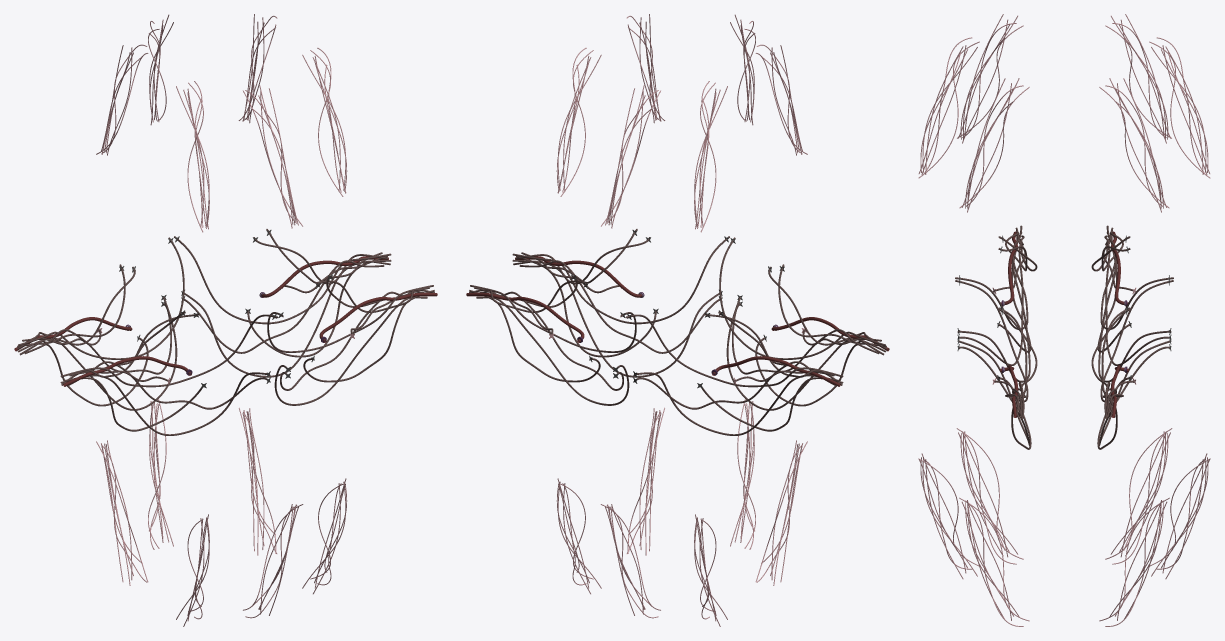
Rendered from AlphaWires.fbx.
3 renders of one model, left to right at view 1: azimuth 30°, elevation 25°; view 2: azimuth 150°, elevation 25°; view 3: azimuth 270°, elevation 25°, orthographic.
Parts seen in each view (by area): view 1: Wires; view 2: Wires; view 3: Wires.
Part boxes in pixels (x1,y1,x2,y2): Wires: (14, 14, 437, 626); Wires: (466, 14, 889, 626); Wires: (918, 14, 1210, 626).
Size of the model in its own units: 4548 by 6251 by 3053.
